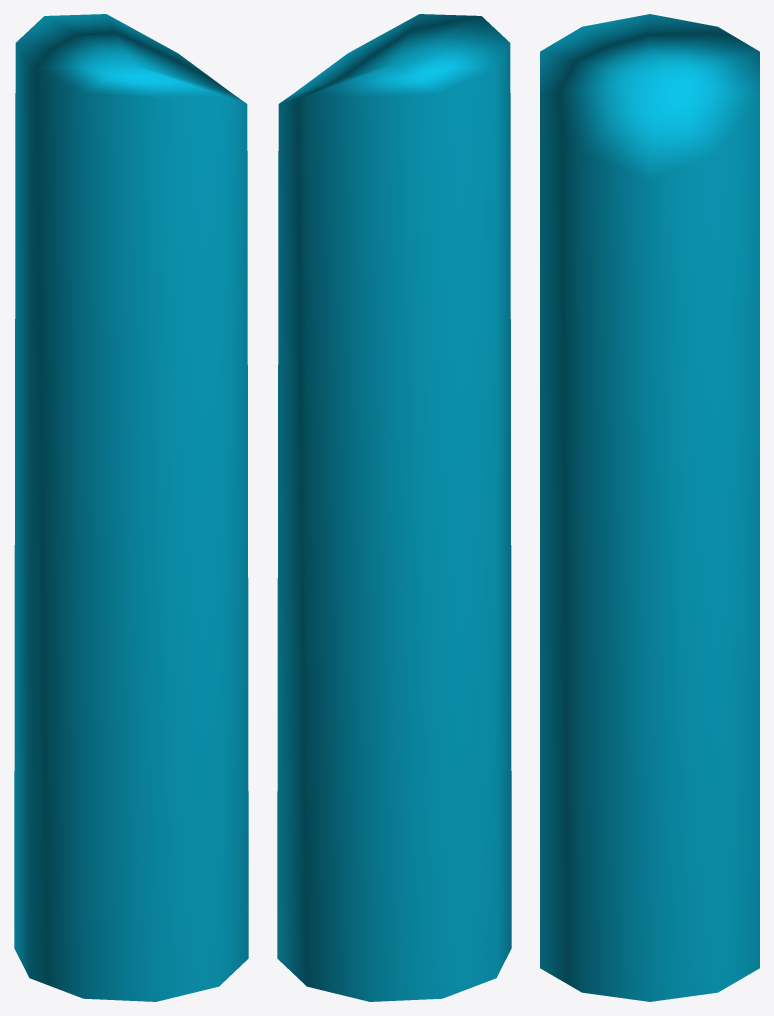
Rendered from Household_03_Lod1.fbx.
The picture shows the model from 3 angles, left to right: view 1: azimuth 30°, elevation 25°; view 2: azimuth 150°, elevation 25°; view 3: azimuth 270°, elevation 25°; orthographic projection.
Visible parts, largest first — view 1: Household_03_Lod1; view 2: Household_03_Lod1; view 3: Household_03_Lod1.
Boxes of the visible parts, <box> form: Household_03_Lod1: <box>14,14,248,1001</box>; Household_03_Lod1: <box>277,14,511,1001</box>; Household_03_Lod1: <box>540,14,759,1001</box>.
Size of the model in its own units: 7.26 by 30.85 by 6.9.
